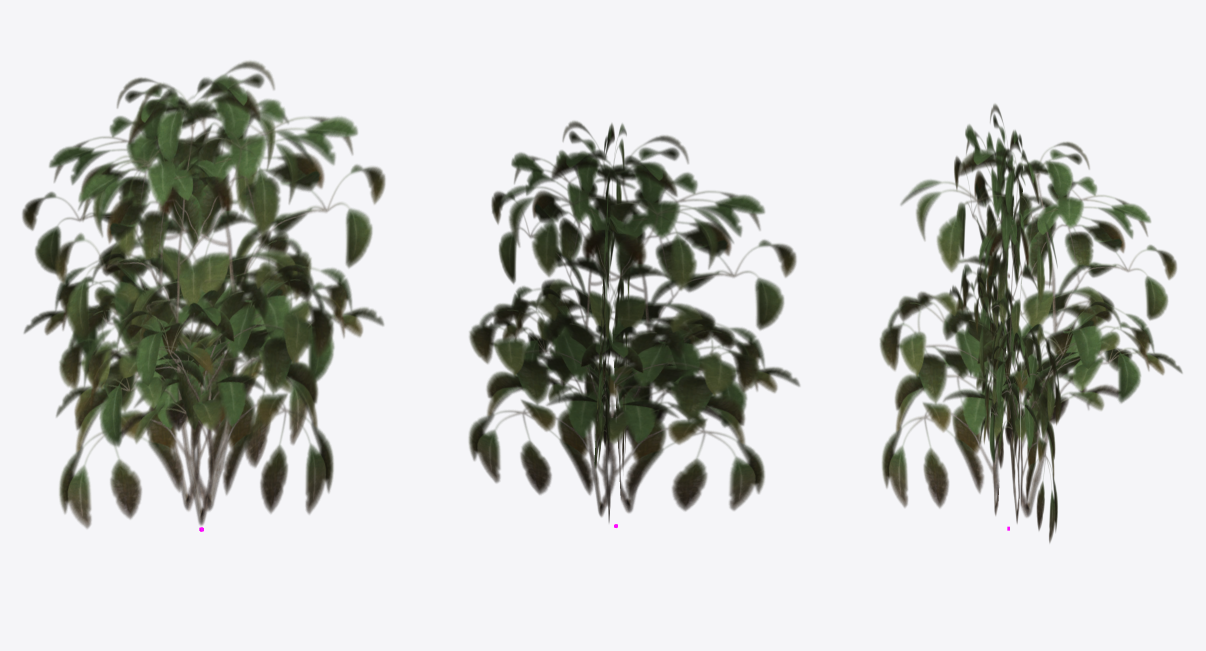
File: Mveg2.glb
3 views of the same model, side by side, from view 1: azimuth 30°, elevation 25°; view 2: azimuth 150°, elevation 25°; view 3: azimuth 270°, elevation 25° (orthographic). The views are drawn at different scales.
Parts seen in each view (by area): view 1: 01 Mesh0; view 2: 01 Mesh0; view 3: 01 Mesh0.
Boxes of the visible parts, x1,y1,x2,y2 form: 01 Mesh0: (22,61,385,528); 01 Mesh0: (469,121,799,522); 01 Mesh0: (880,104,1182,542).
Size of the model in its own units: 1.98 by 2.65 by 1.82.
Materials: 2 (1 with a texture image).
